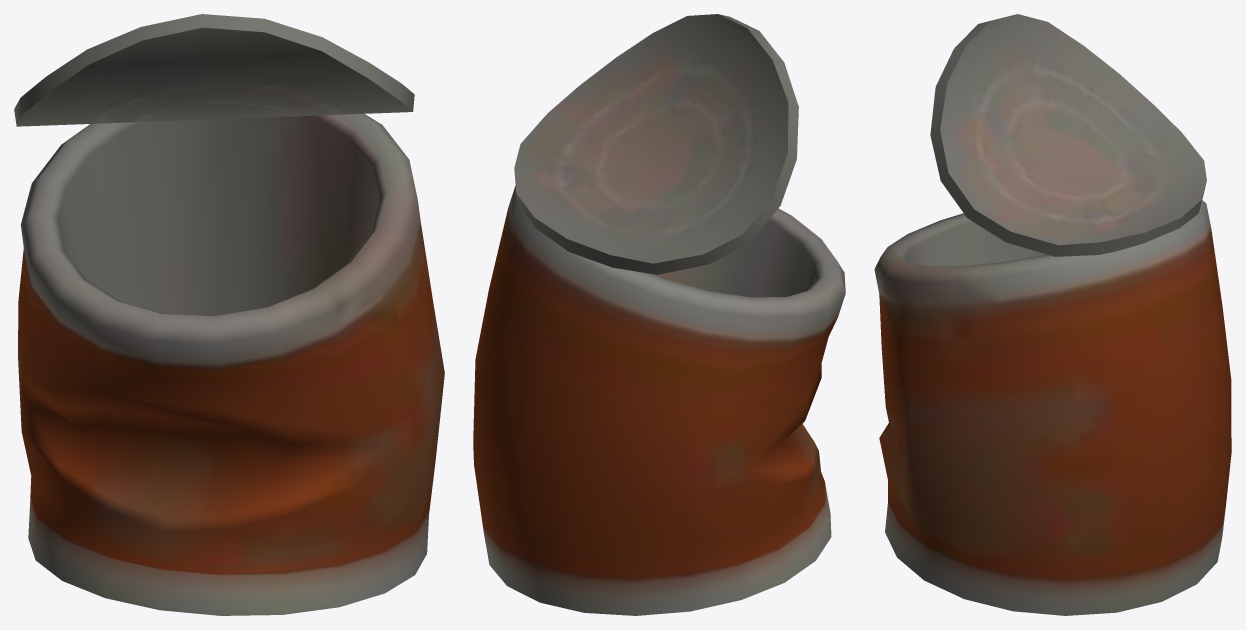
Rendered from empty-can.glb.
3 renders of one model, left to right at view 1: azimuth 30°, elevation 25°; view 2: azimuth 150°, elevation 25°; view 3: azimuth 270°, elevation 25°, orthographic. The views are drawn at different scales.
Bounding box in the file's own units: 2.85 × 4.36 × 2.82.
1 material, 1 textured.
